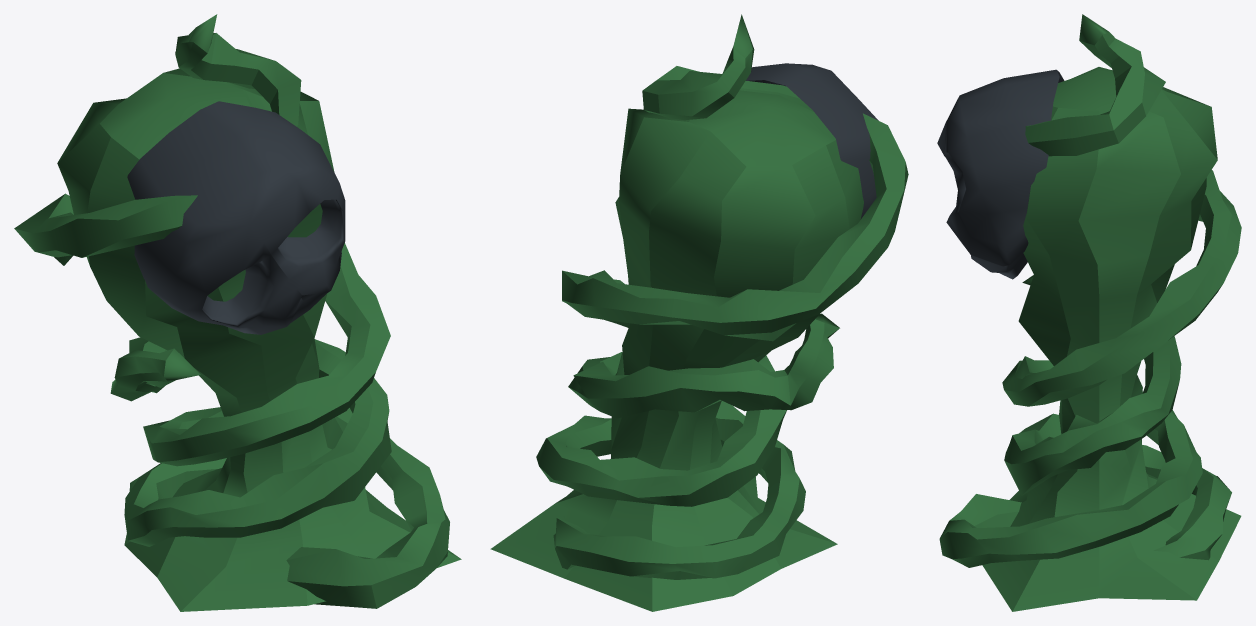
Rendered from ShadowlingTwo.fbx.
3 renders of one model, left to right at view 1: azimuth 30°, elevation 25°; view 2: azimuth 150°, elevation 25°; view 3: azimuth 270°, elevation 25°, orthographic. The views are drawn at different scales.
Visible parts, largest first — view 1: pCylinder5, pCylinder1; view 2: pCylinder5, pCylinder1; view 3: pCylinder5, pCylinder1.
Boxes of the visible parts, left/top/right/bottom form: pCylinder5: left=14, top=14, right=461, bottom=611; pCylinder1: left=127, top=101, right=345, bottom=334; pCylinder5: left=490, top=14, right=908, bottom=611; pCylinder1: left=746, top=63, right=878, bottom=219; pCylinder5: left=939, top=14, right=1241, bottom=611; pCylinder1: left=937, top=69, right=1064, bottom=279.
Bounding box in the file's own units: 5.34 × 8.06 × 4.32.
